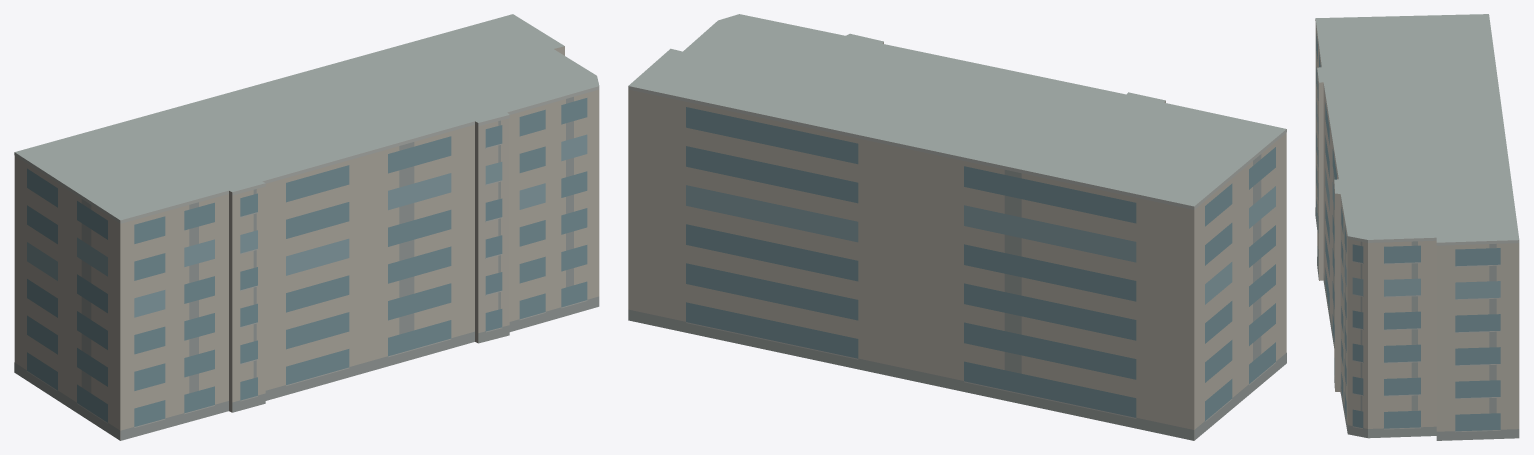
File: survey-upis-32971963.glb
The picture shows the model from 3 angles, left to right: view 1: azimuth 30°, elevation 25°; view 2: azimuth 150°, elevation 25°; view 3: azimuth 270°, elevation 25°; orthographic projection. The views are drawn at different scales.
Parts seen in each view (by area): view 1: survey-upis-32971963.tmp; view 2: survey-upis-32971963.tmp; view 3: survey-upis-32971963.tmp.
Boxes of the visible parts, x1,y1,x2,y2 form: survey-upis-32971963.tmp: (14, 14, 599, 440); survey-upis-32971963.tmp: (628, 14, 1286, 440); survey-upis-32971963.tmp: (1315, 14, 1519, 440).
Size of the model in its own units: 40.11 by 16.2 by 15.11.
